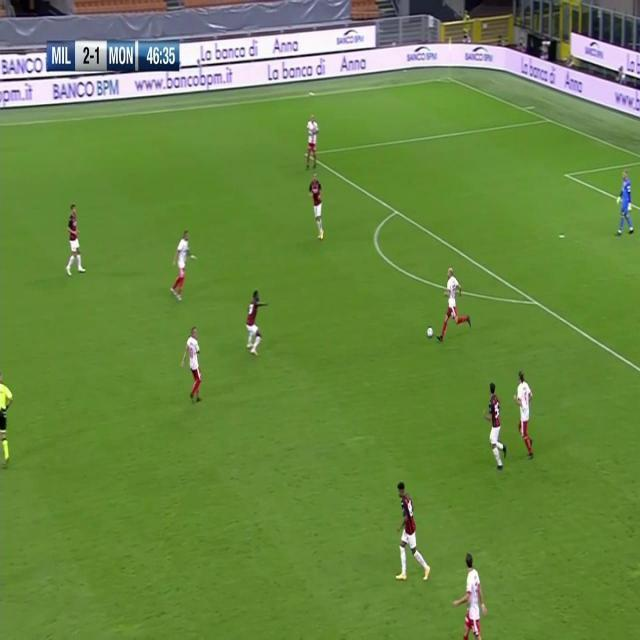ball: (426, 324, 435, 339)
goalkeeper: (614, 168, 636, 238)
player: (393, 481, 432, 586), (454, 550, 488, 640), (438, 264, 471, 342), (482, 381, 509, 472), (168, 229, 197, 303), (514, 370, 537, 460), (181, 324, 204, 403), (64, 201, 86, 278), (244, 288, 268, 357), (309, 172, 327, 241), (303, 113, 319, 171)
referee: (0, 372, 14, 470)
